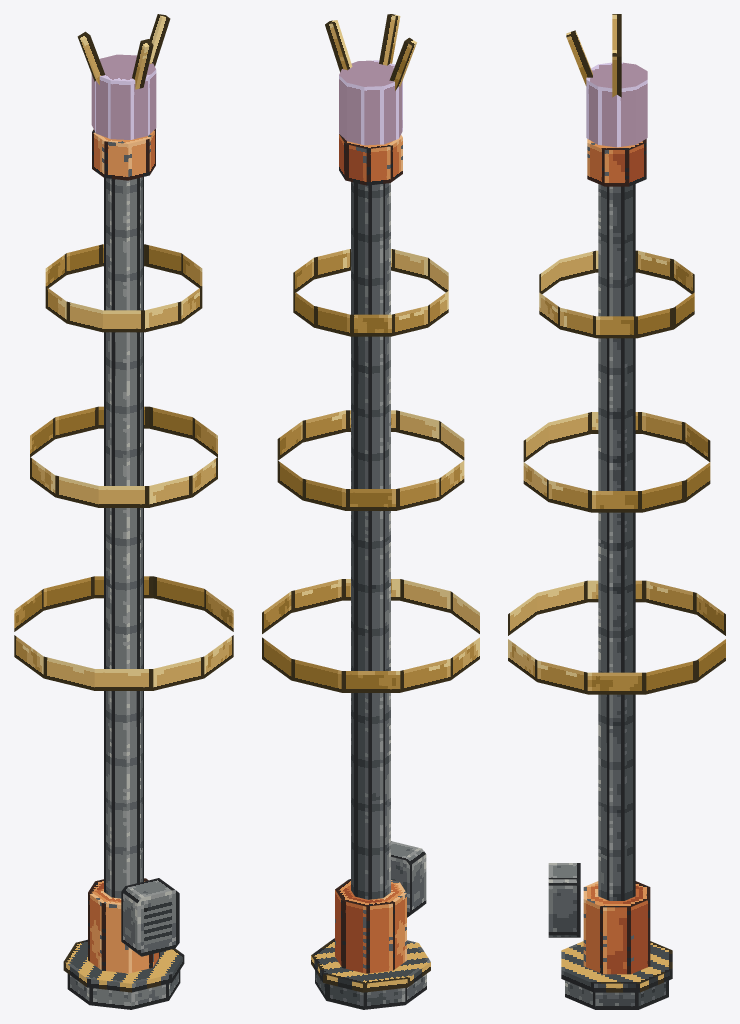
Rendered from st_gravpole.glb.
3 views of the same model, side by side, from view 1: azimuth 30°, elevation 25°; view 2: azimuth 150°, elevation 25°; view 3: azimuth 270°, elevation 25° (orthographic).
Parts seen in each view (by area): view 1: mast, ring1, ring2, ring3, core, box, base, collar, cap, footing, prong_b, prong_mirror (+1 smaller); view 2: mast, ring1, ring2, ring3, base, core, collar, cap, footing, box, prong, prong_b (+1 smaller); view 3: mast, ring1, ring2, ring3, base, core, collar, box, cap, footing, prong_b.
Part boxes in pixels (box(x1,y1,x2,y2)): mast: box(104, 177, 143, 898); ring1: box(14, 576, 233, 690); ring2: box(30, 406, 217, 507); ring3: box(45, 244, 202, 332); core: box(91, 54, 156, 139); box: box(121, 878, 179, 956); base: box(88, 878, 159, 973); collar: box(63, 939, 184, 992); cap: box(92, 129, 155, 180); footing: box(67, 970, 180, 1009); prong_b: box(132, 39, 153, 89); prong_mirror: box(77, 31, 105, 84); mast: box(351, 182, 390, 899); ring1: box(262, 579, 479, 692); ring2: box(277, 410, 464, 510); ring3: box(293, 249, 448, 336); base: box(335, 879, 406, 973); core: box(339, 60, 402, 145); collar: box(311, 938, 430, 992); cap: box(339, 134, 402, 185); footing: box(315, 970, 426, 1009); box: box(391, 841, 426, 917); prong: box(325, 20, 352, 72); prong_b: box(379, 14, 400, 65); mast: box(598, 184, 635, 900); ring1: box(508, 580, 725, 694); ring2: box(523, 412, 710, 512); ring3: box(539, 250, 694, 338); base: box(583, 881, 650, 974); core: box(586, 62, 647, 147); collar: box(561, 941, 672, 992); box: box(548, 863, 580, 937); cap: box(587, 139, 646, 186); footing: box(565, 980, 668, 1009); prong_b: box(566, 30, 592, 85).
Bounding box in the file's own units: 27.05 × 131 × 27.05.
Materials: 2 (2 with a texture image).
